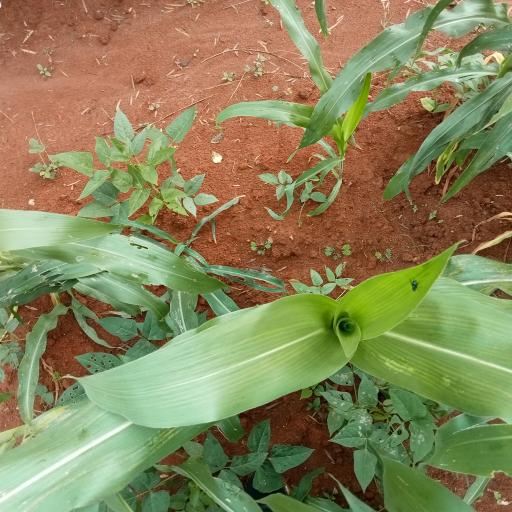Corn_Brown_Spots: (89, 261, 512, 431)
